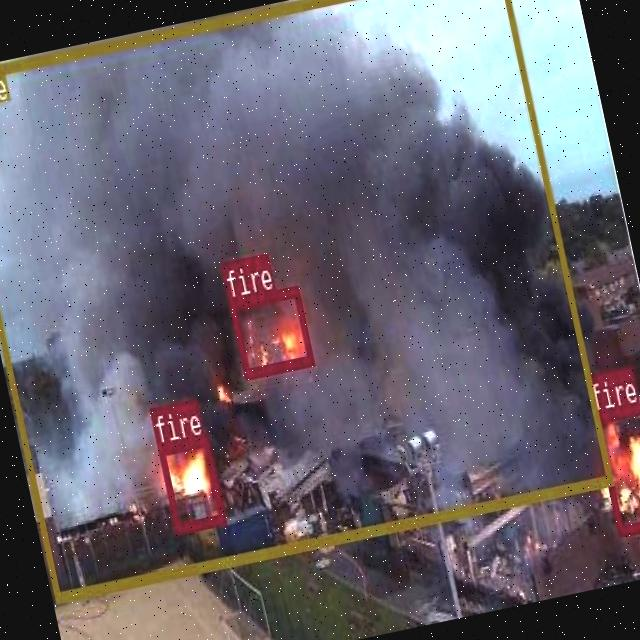fire: (228, 285, 314, 378), (155, 433, 225, 533), (591, 399, 640, 534)
smoke: (0, 0, 611, 600)
